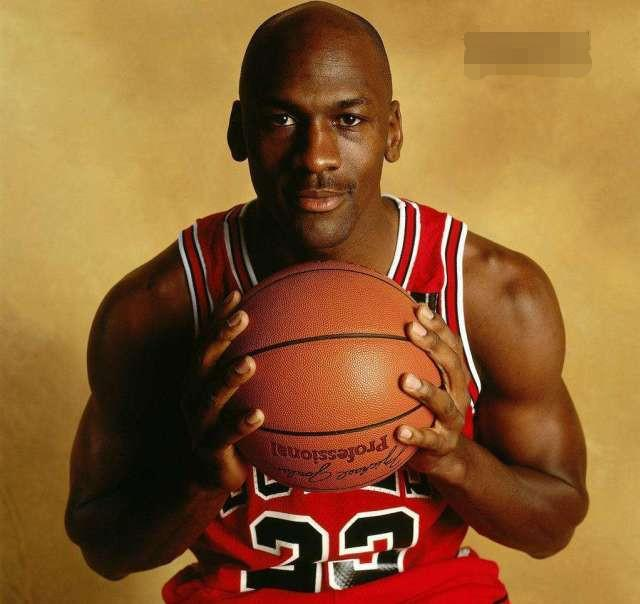ball: (217, 260, 444, 494)
